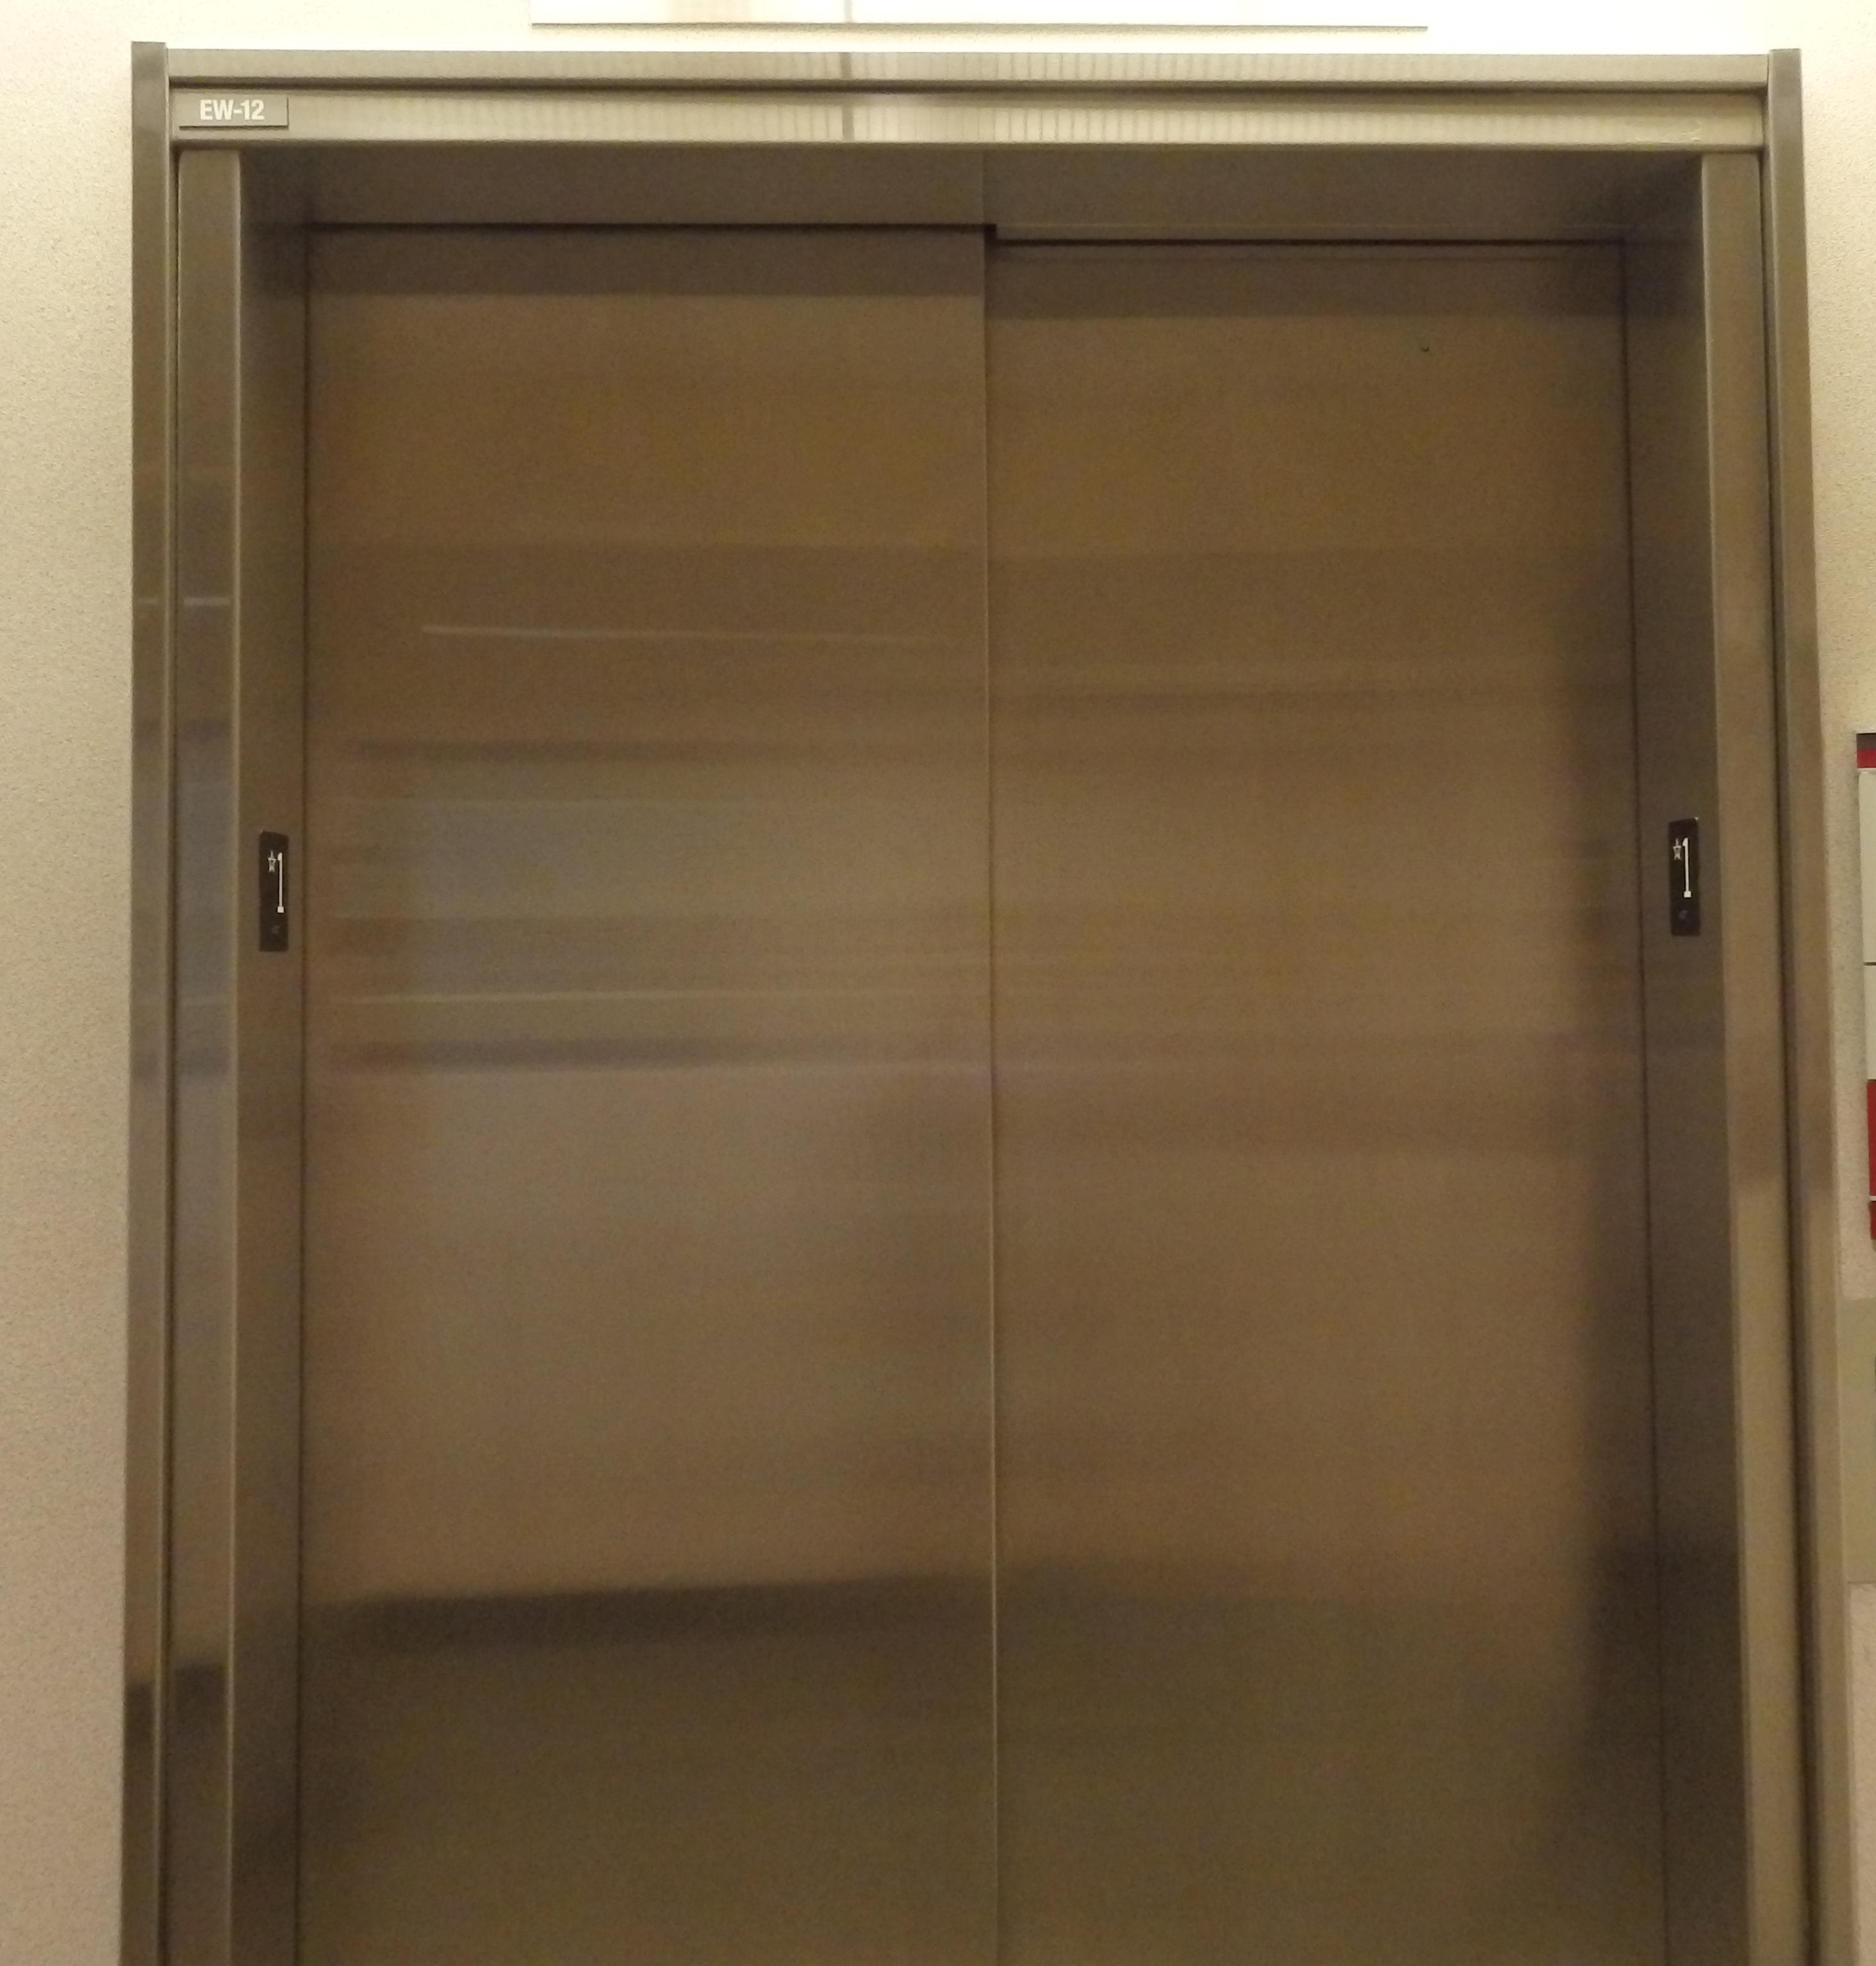door: (267, 149, 1692, 1966)
